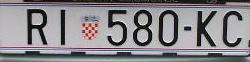-: (183, 26, 192, 31)
0: (159, 11, 178, 46)
5: (107, 10, 128, 46)
8: (133, 9, 152, 46)
C: (222, 11, 242, 46)
I: (59, 9, 66, 45)
K: (196, 11, 216, 48)
R: (26, 8, 47, 46)
